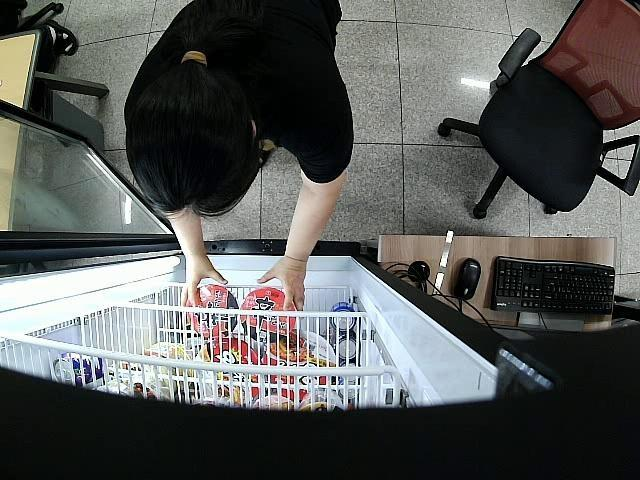01_ShinRamen_L: (240, 286, 296, 343), (185, 284, 238, 340)
